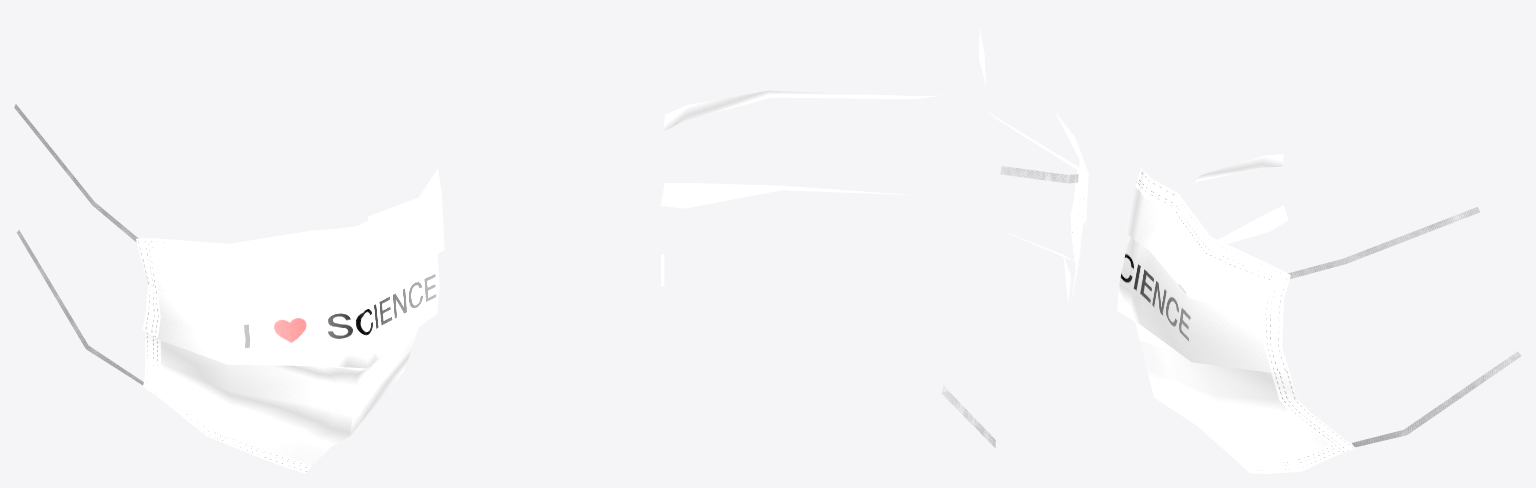
Rendered from Mask.glb.
3 renders of one model, left to right at view 1: azimuth 30°, elevation 25°; view 2: azimuth 150°, elevation 25°; view 3: azimuth 270°, elevation 25°, orthographic. The views are drawn at different scales.
Visible parts, largest first — view 1: Mask_lo; view 2: Mask_lo; view 3: Mask_lo.
Boxes of the visible parts, x1,y1,x2,y2 form: Mask_lo: (14, 104, 444, 473); Mask_lo: (661, 28, 1088, 447); Mask_lo: (1117, 154, 1521, 473).
Size of the model in its own units: 0.1426 by 0.1249 by 0.1262.
1 material, 1 textured.
